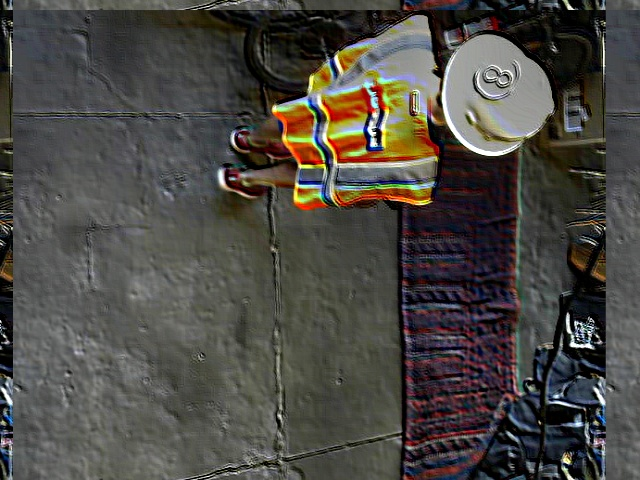eight: (474, 54, 520, 98)
